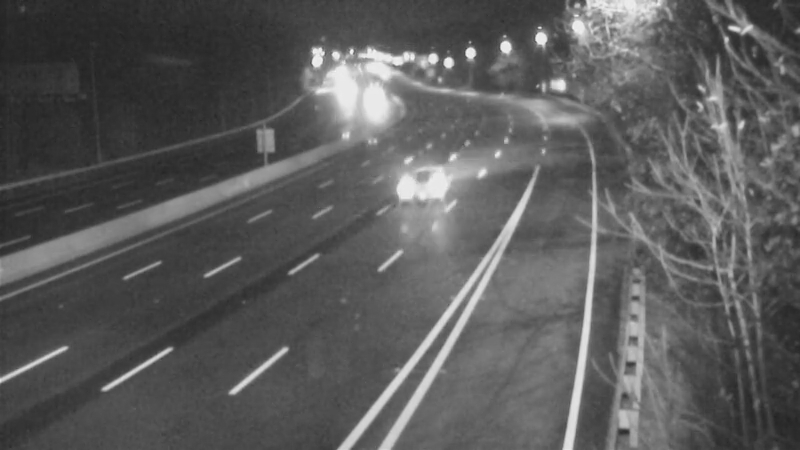vehicle: (391, 145, 471, 225), (345, 81, 395, 131), (323, 70, 373, 120)
